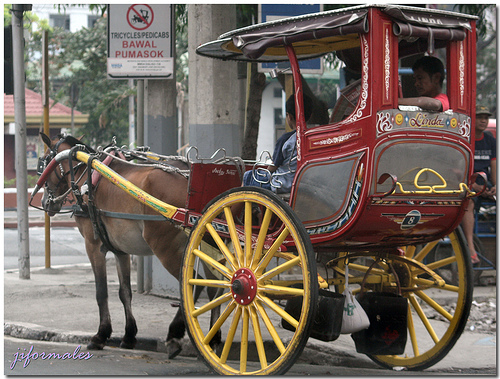horse: (34, 133, 234, 357)
